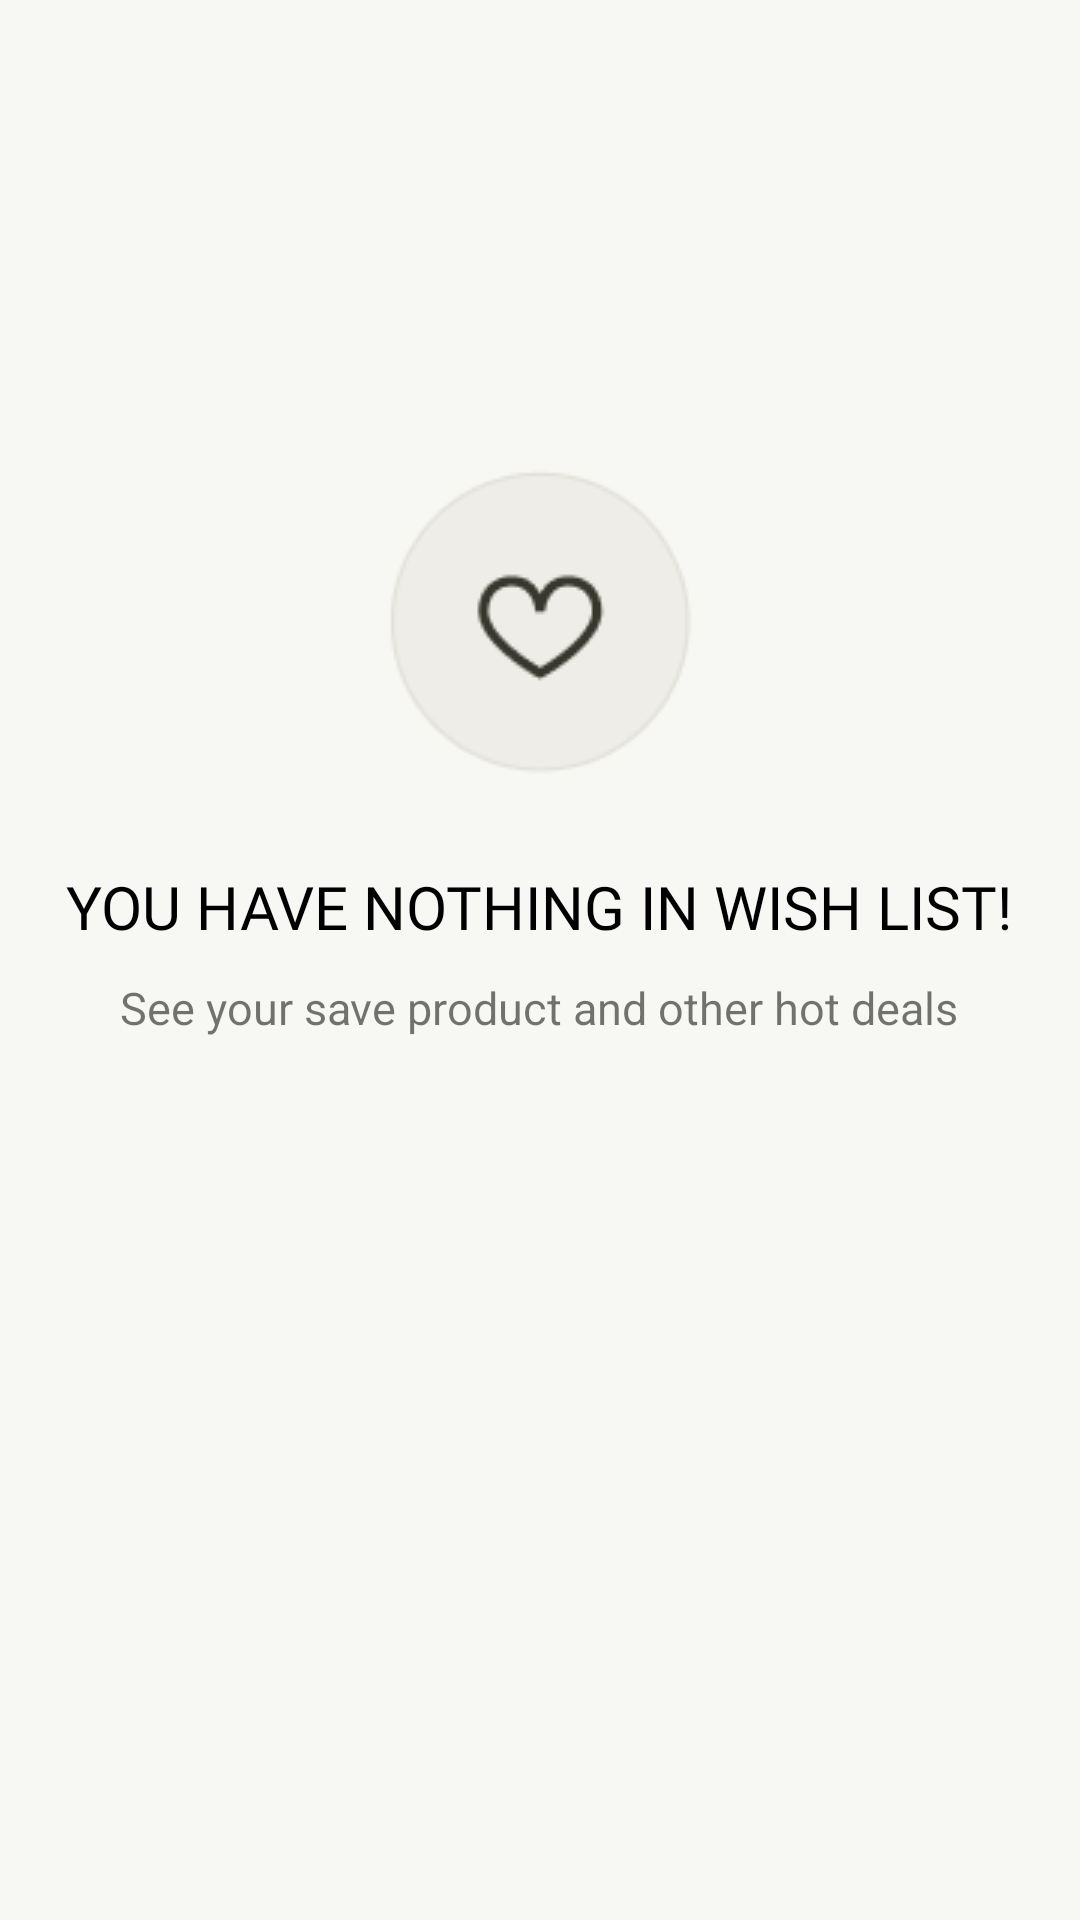

Icons on this 1080w x 1920h Android screen, each with its box as (x1, y1, x2, y2):
imgwishlist: (390, 472, 691, 772)
